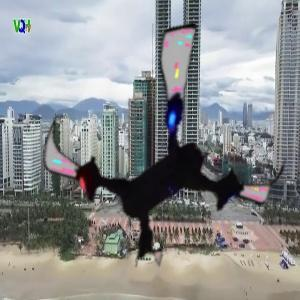drone: (37, 21, 292, 276)
